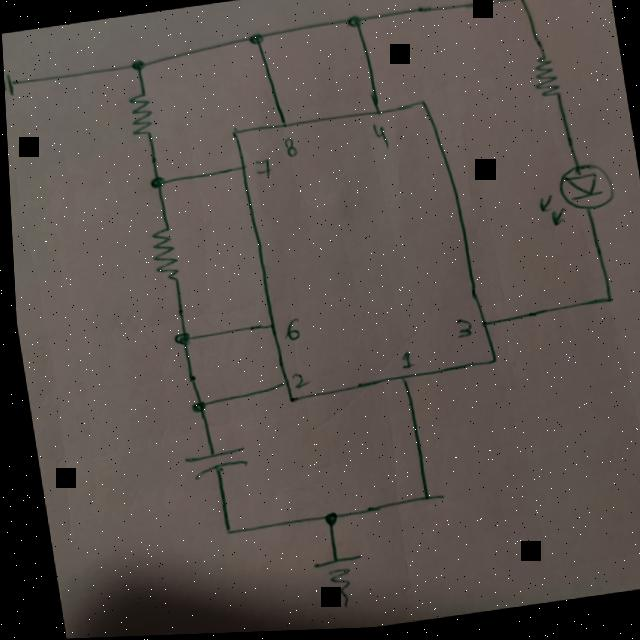capacitor: (175, 442, 244, 483)
diode: (527, 161, 618, 238)
ground: (300, 552, 365, 612)
junction: (209, 518, 236, 543), (592, 291, 616, 314), (342, 11, 364, 35), (142, 171, 165, 193), (166, 328, 188, 349), (313, 506, 333, 528), (125, 56, 146, 75), (412, 490, 433, 509), (184, 399, 203, 416), (245, 32, 264, 48), (510, 0, 529, 12)
resistor: (143, 221, 181, 287), (525, 53, 564, 107), (121, 87, 156, 143)
source: (3, 68, 16, 98)
text: (366, 118, 390, 149), (277, 136, 298, 161), (449, 317, 468, 343), (251, 155, 270, 179), (278, 315, 295, 341), (392, 349, 408, 369), (286, 373, 301, 392)
